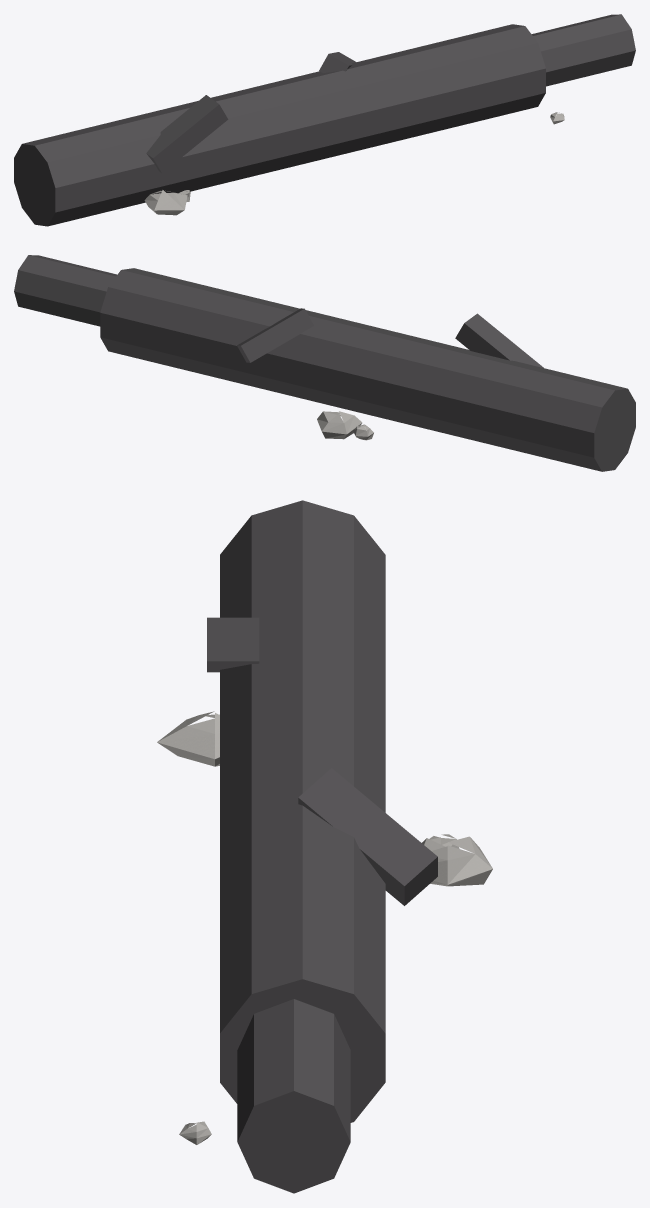
Rendered from volcano-and-lava-fields-volcano-and-lava-fields-charre-a1cb7fb2__37478.glb.
3 renders of one model, top to bottom at view 1: azimuth 30°, elevation 25°; view 2: azimuth 150°, elevation 25°; view 3: azimuth 270°, elevation 25°, orthographic. The views are drawn at different scales.
Parts seen in each view (by area): view 1: volcano-and-lava-fields-charred-log; view 2: volcano-and-lava-fields-charred-log; view 3: volcano-and-lava-fields-charred-log.
Part boxes in pixels (x1,y1,x2,y2): volcano-and-lava-fields-charred-log: [14, 14, 635, 226]; volcano-and-lava-fields-charred-log: [14, 255, 635, 471]; volcano-and-lava-fields-charred-log: [157, 500, 492, 1193].
Bounding box in the file's own units: 3.1 × 0.4999 × 0.7718.
Materials: 2 (1 with a texture image).
